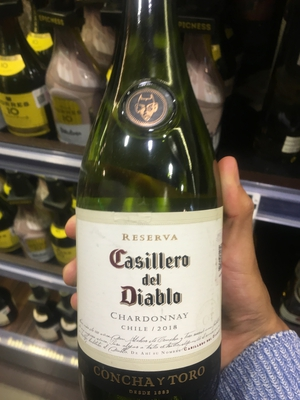casillero del diablo chardonnay: (74, 15, 232, 400)
